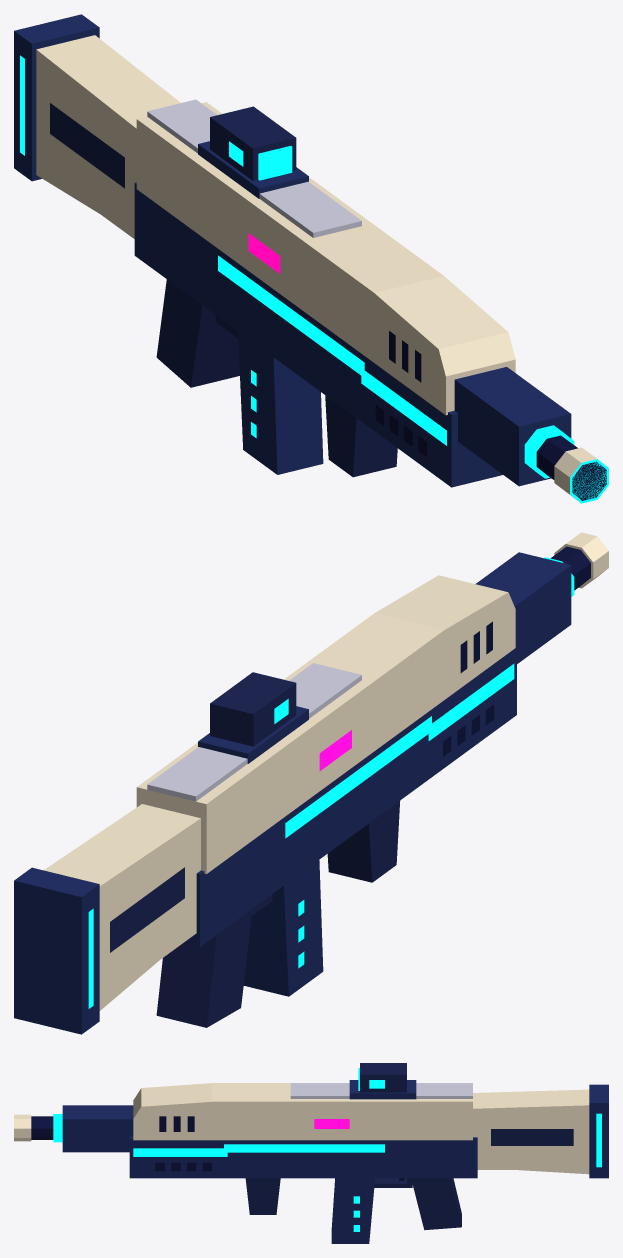
The model's file is rifle.glb.
3 views of the same model, one above another, from view 1: azimuth 30°, elevation 25°; view 2: azimuth 150°, elevation 25°; view 3: azimuth 270°, elevation 25° (orthographic). The views are drawn at different scales.
Visible parts, largest first — view 1: Rifle; view 2: Rifle; view 3: Rifle.
Part boxes in pixels (<box>): Rifle: <box>14,14,608,503</box>; Rifle: <box>14,532,608,1034</box>; Rifle: <box>14,1063,608,1243</box>.
Size of the model in its own units: 0.0656 by 0.2692 by 0.86.
